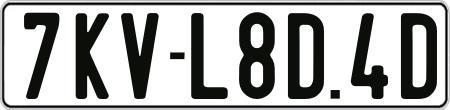4: (349, 12, 392, 102)
7: (22, 10, 58, 98)
8: (237, 10, 274, 103)
D: (286, 10, 328, 102), (399, 13, 431, 102)
K: (75, 11, 110, 98)
L: (190, 10, 227, 97)
V: (118, 12, 159, 102)
